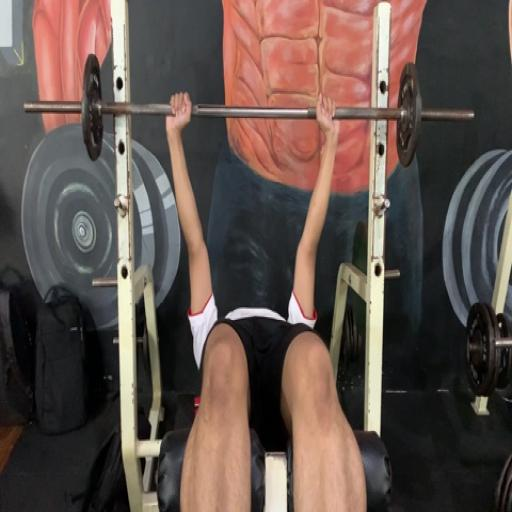exercise: (162, 88, 371, 511)
